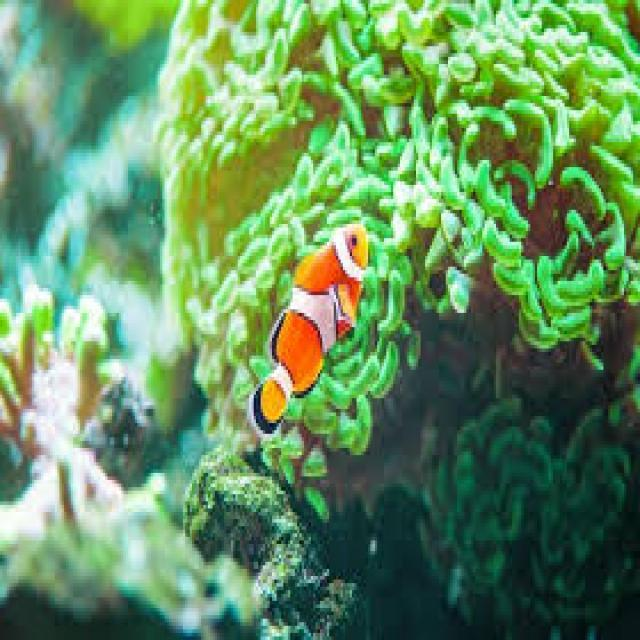ClownFish: (252, 218, 372, 438)
